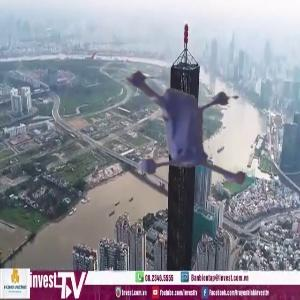drone: (78, 36, 250, 208)
